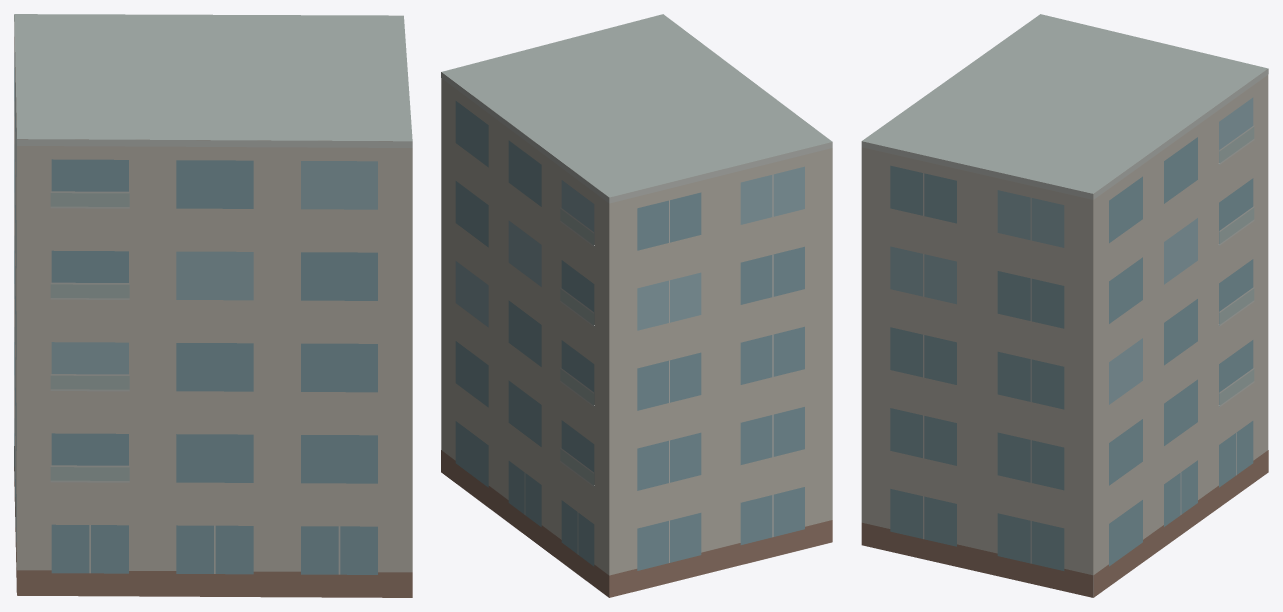
Rendered from survey-upis-32871452.glb.
3 views of the same model, side by side, from view 1: azimuth 30°, elevation 25°; view 2: azimuth 150°, elevation 25°; view 3: azimuth 270°, elevation 25° (orthographic). The views are drawn at different scales.
Parts seen in each view (by area): view 1: survey-upis-32871452.tmp; view 2: survey-upis-32871452.tmp; view 3: survey-upis-32871452.tmp.
Boxes of the visible parts, x1=… form: survey-upis-32871452.tmp: x1=14, y1=14, x2=412, y2=597; survey-upis-32871452.tmp: x1=441, y1=14, x2=832, y2=597; survey-upis-32871452.tmp: x1=861, y1=14, x2=1268, y2=597.
Size of the model in its own units: 15.58 by 16.3 by 14.89.
